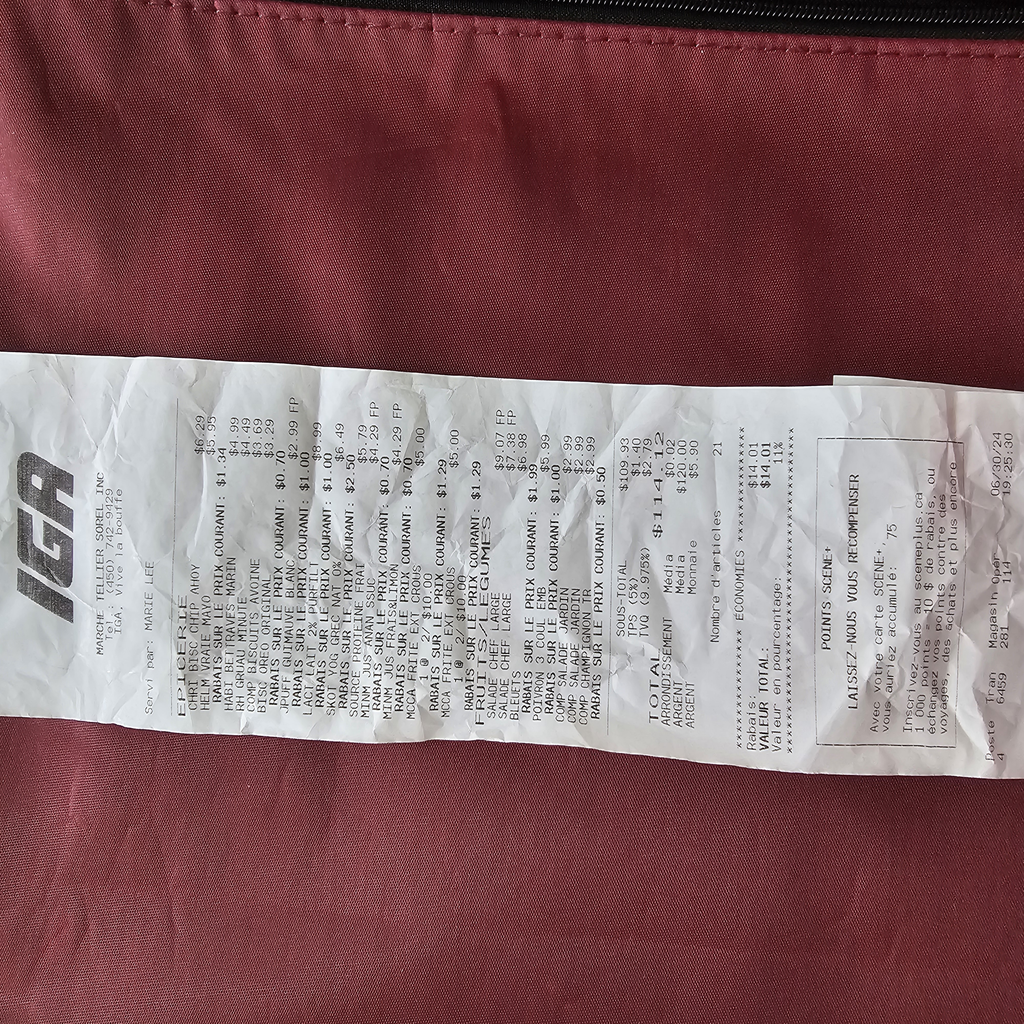recipt: (2, 353, 1018, 780)
